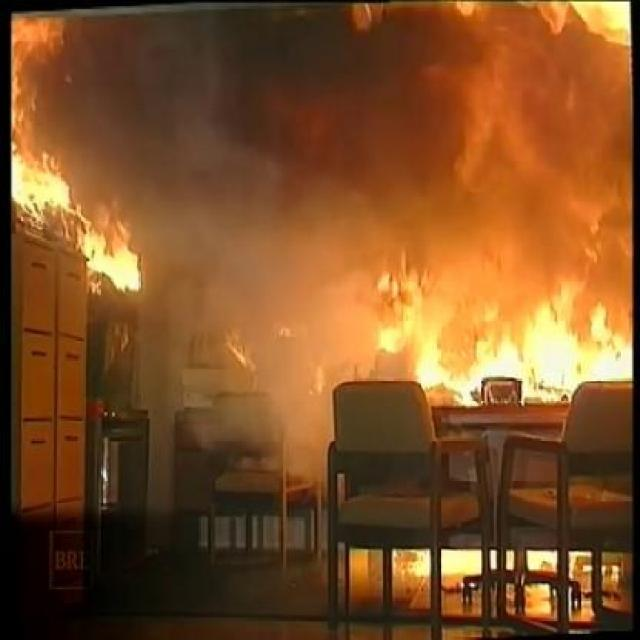fire: (382, 242, 620, 373), (16, 39, 92, 222)
smoke: (132, 83, 320, 320), (214, 342, 300, 449)
